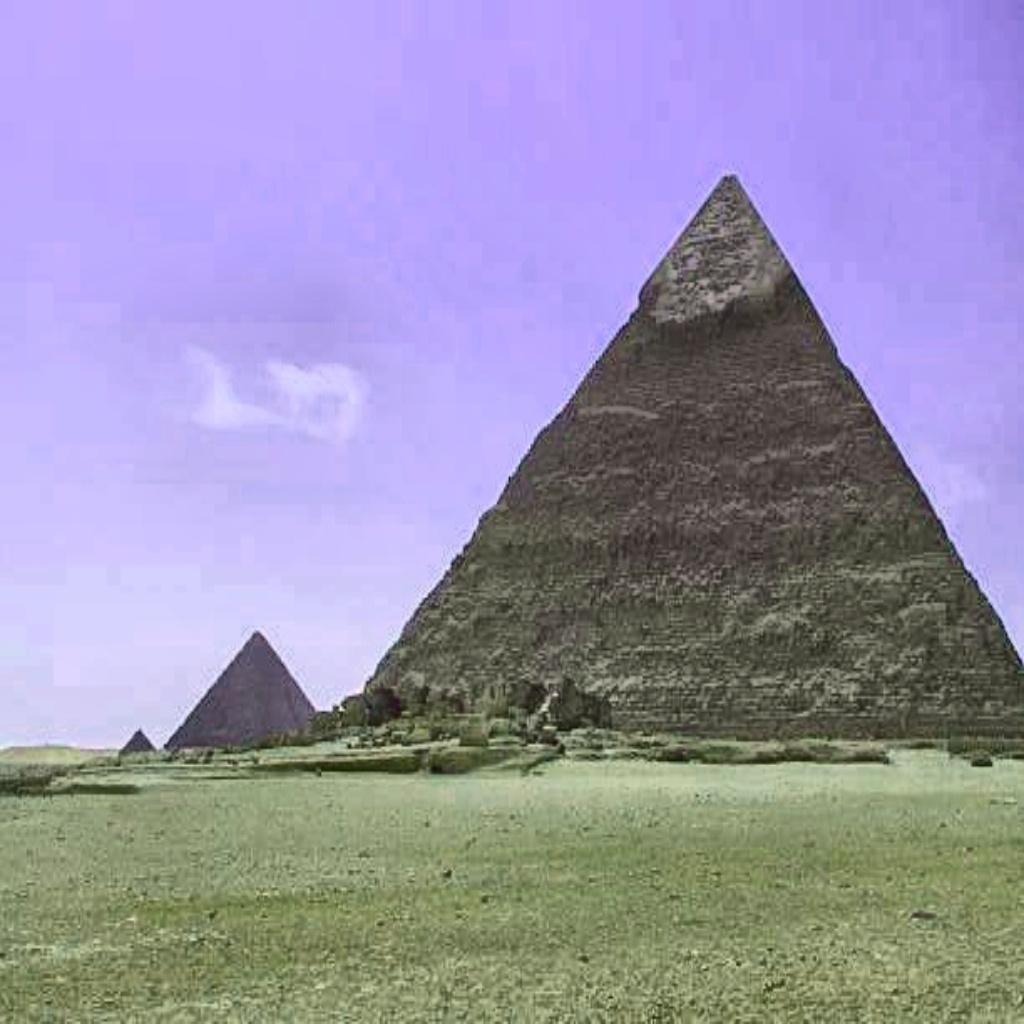Great Pyramids of Giza: (343, 169, 1022, 749)
